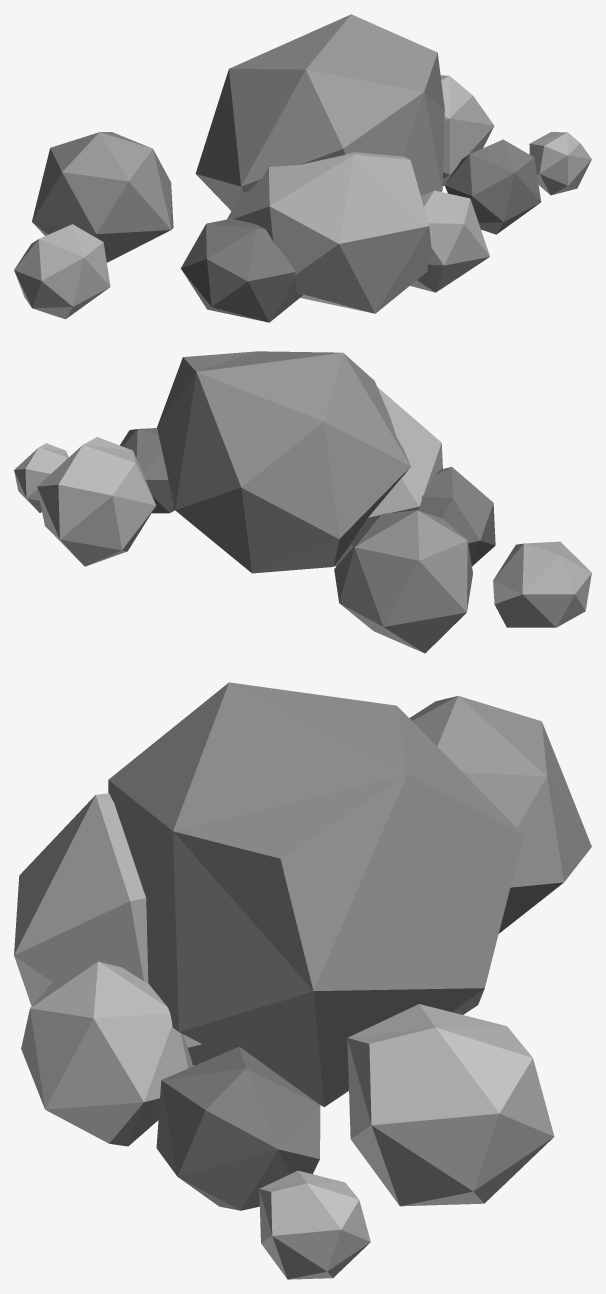
Rendered from EA03_Environment_Rock_Head_01c.glb.
3 views of the same model, one above another, from view 1: azimuth 30°, elevation 25°; view 2: azimuth 150°, elevation 25°; view 3: azimuth 270°, elevation 25° (orthographic). The views are drawn at different scales.
Parts seen in each view (by area): view 1: EA03_Environment_Rock_Head_01c; view 2: EA03_Environment_Rock_Head_01c; view 3: EA03_Environment_Rock_Head_01c.
Part boxes in pixels (left/top/right/bottom): EA03_Environment_Rock_Head_01c: left=14, top=14, right=591, bottom=322; EA03_Environment_Rock_Head_01c: left=14, top=351, right=591, bottom=653; EA03_Environment_Rock_Head_01c: left=14, top=682, right=591, bottom=1279.
Bounding box in the file's own units: 1.48 × 0.5421 × 0.7577.
Materials: 1 (1 with a texture image).
